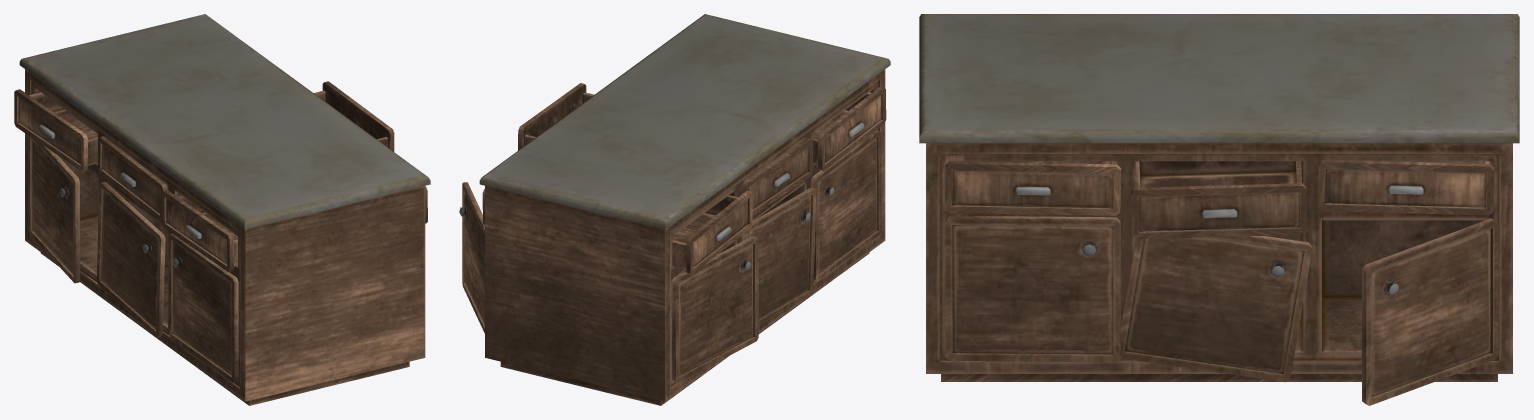
The model's file is kitchen-counter.glb.
3 views of the same model, side by side, from view 1: azimuth 30°, elevation 25°; view 2: azimuth 150°, elevation 25°; view 3: azimuth 270°, elevation 25° (orthographic). The views are drawn at different scales.
Parts seen in each view (by area): view 1: Cube_0, Cube.002_8, Cube.006_2, Cube.012_6, Cube.011_5, Cube.001_7, Cube.005_1, Cube.003_9; view 2: Cube_0, Cube.012_6, Cube.002_8, Cube.006_2, Cube.011_5, Cube.001_7, Cube.008_4, Cube.005_1, Cube.003_9; view 3: Cube_0, Cube.010_12, Cube.004_10, Cube.008_4, Cube.003_9, Cube.009_11, Cube.007_3.
Boxes of the visible parts, x1,y1,x2,y2 form: Cube_0: (19,14,430,405); Cube.002_8: (168,233,238,382); Cube.006_2: (96,182,165,337); Cube.012_6: (28,135,80,283); Cube.011_5: (14,89,97,171); Cube.001_7: (162,190,237,272); Cube.005_1: (97,136,167,221); Cube.003_9: (314,81,394,151); Cube_0: (479,14,890,405); Cube.012_6: (671,236,758,382); Cube.002_8: (811,130,881,281); Cube.006_2: (742,187,816,325); Cube.011_5: (672,191,752,274); Cube.001_7: (812,86,886,170); Cube.008_4: (459,182,484,333); Cube.005_1: (742,138,813,215); Cube.003_9: (518,83,594,150); Cube_0: (919,14,1519,381); Cube.010_12: (944,216,1120,362); Cube.004_10: (1121,236,1312,382); Cube.008_4: (1362,218,1498,405); Cube.003_9: (1131,161,1307,239); Cube.009_11: (945,161,1121,215); Cube.007_3: (1317,159,1494,215).
Bounding box in the file's own units: 3.84 × 2.51 × 5.29.
1 material, 1 textured.
